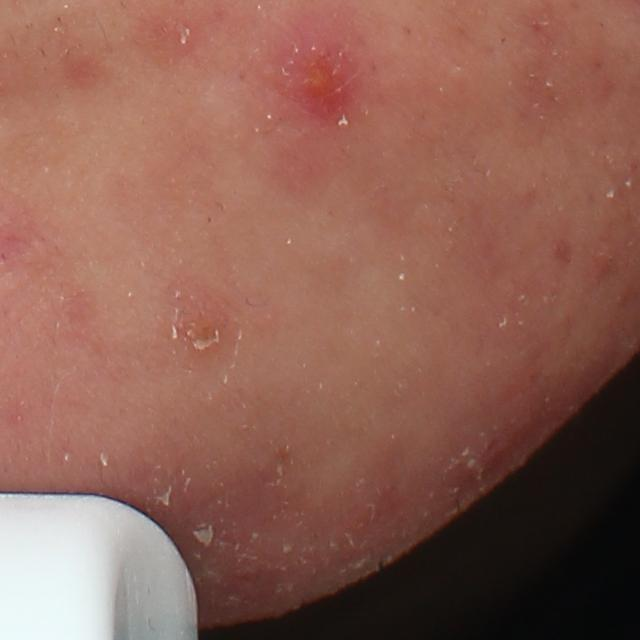papule: (269, 20, 359, 134), (180, 311, 225, 349)
